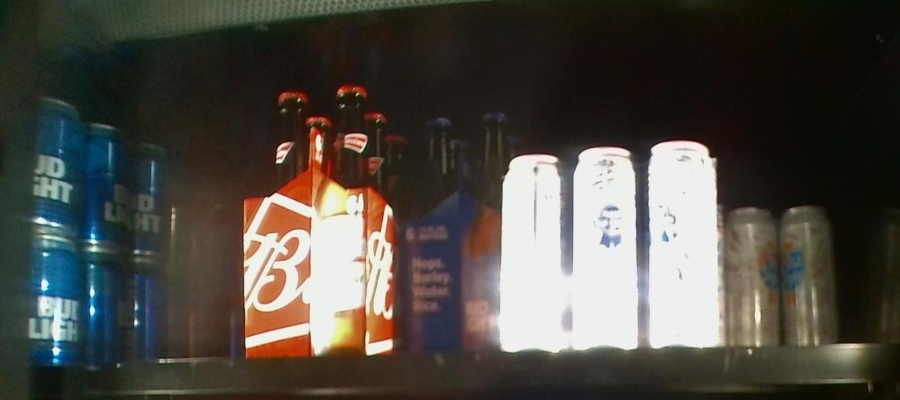bottle: (503, 145, 722, 350), (245, 87, 400, 358), (32, 96, 170, 355), (404, 109, 502, 362), (722, 196, 838, 352), (182, 190, 220, 364), (223, 291, 248, 359)
